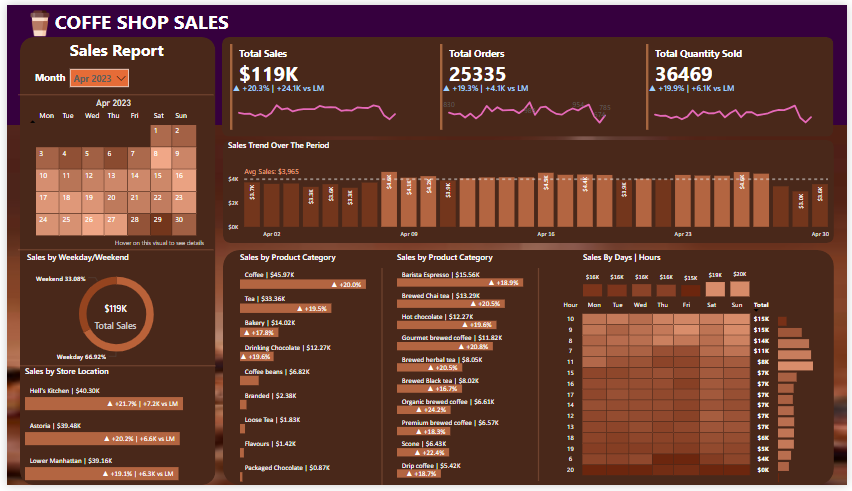

This screenshot's page, from the dashboard's own definition file:
{"tool":"powerbi","page":{"name":"Page 1","canvas":[1400,800],"ordinal":0},"visuals":[{"type":"shape","box":[0,0,1400,200],"z":0},{"type":"shape","box":[21,53.2,325.8,746.8],"z":1000},{"type":"shape","box":[358.1,53.2,1019.4,166.1],"z":2000},{"type":"shape","box":[360,225,1018.3,171.7],"z":3000},{"type":"shape","box":[360,408.3,1018.3,391.7],"z":4000},{"type":"textbox","box":[66.1,0,316.1,53.2],"z":5000},{"type":"cardVisual","fields":{"Data":["Transactions.Total Sales"]},"box":[366.1,59.7,302.3,153.5],"z":6000,"group":"g3"},{"type":"cardVisual","fields":{"Data":["Transactions.Total Orders"]},"box":[716.1,59.7,302.3,153.5],"z":6000,"group":"g1"},{"type":"cardVisual","fields":{"Data":["Transactions.Total Quantity Sold"]},"box":[1059.7,59.7,302.3,153.5],"z":6000,"group":"g2"},{"type":"slicer","fields":{"Values":["Date Table.Month Year"]},"box":[100,102,108,40],"z":6000},{"type":"group","id":"g1","title":"Group 2","box":[716.1,59.7,301.6,153.2],"z":7000},{"type":"group","id":"g2","title":"Group 2","box":[1059.7,59.7,301.6,153.2],"z":8000},{"type":"lineChart","fields":{"Y":["Transactions.Total Sales"],"Category":["Date Table.Date.Variation.Date Hierarchy.Year","Date Table.Date.Variation.Date Hierarchy.Quarter","Date Table.Date.Variation.Date Hierarchy.Month","Date Table.Date.Variation.Date Hierarchy.Day"]},"box":[371.7,129.8,290,80],"z":8000,"group":"g3"},{"type":"lineChart","fields":{"Category":["Date Table.Date.Variation.Date Hierarchy.Year","Date Table.Date.Variation.Date Hierarchy.Quarter","Date Table.Date.Variation.Date Hierarchy.Month","Date Table.Date.Variation.Date Hierarchy.Day"],"Y":["Transactions.Total Orders"]},"box":[721.7,129.8,290,80],"z":8000,"group":"g1"},{"type":"lineChart","fields":{"Category":["Date Table.Date.Variation.Date Hierarchy.Year","Date Table.Date.Variation.Date Hierarchy.Quarter","Date Table.Date.Variation.Date Hierarchy.Month","Date Table.Date.Variation.Date Hierarchy.Day"],"Y":["Transactions.Total Quantity Sold"]},"box":[1065.3,129.8,290,80],"z":8000,"group":"g2"},{"type":"group","id":"g3","title":"Group 2","box":[366.1,59.7,301.6,153.2],"z":9000},{"type":"pivotTable","fields":{"Rows":["Date Table.Week number"],"Columns":["Date Table.Day"],"Values":["Min(Date Table.Day number)"]},"box":[28.3,170,305,230],"z":10000},{"type":"card","fields":{"Values":["Min(Date Table.Month Year)"]},"box":[127.4,150,101.6,29],"z":11000},{"type":"card","fields":{"Values":["Transactions.Foot note"]},"box":[174.2,383.9,161.3,24.2],"z":12000},{"type":"shape","box":[17.7,395.2,325.8,25.8],"z":13000},{"type":"shape","box":[17.7,137.1,325.8,25.8],"z":14000},{"type":"donutChart","title":"Sales by Weekday/Weekend","fields":{"Category":["Date Table.Weekday/Weekend"],"Y":["Transactions.Total Sales"]},"box":[29,411.3,308.1,190.3],"z":15000},{"type":"card","fields":{"Values":["Transactions.Total Sales"]},"box":[127.4,487.1,108.1,64.5],"z":16000},{"type":"clusteredBarChart","title":"Sales by Store Location ","fields":{"Category":["Transactions.store_location"],"Y":["Transactions.Placeholder","Transactions.Total Sales"]},"box":[25.8,601.6,308.1,198.4],"z":17000},{"type":"shape","box":[21,588.7,325.8,25.8],"z":18000},{"type":"columnChart","title":"Sales Trend Over The Period","fields":{"Category":["Transactions.transaction_date"],"Y":["Transactions.Total Sales"]},"box":[363.3,225,1011.7,171.7],"z":19000},{"type":"clusteredBarChart","title":"Sales by Product Category","fields":{"Y":["Transactions.Placeholder","Transactions.Total Sales"],"Category":["Transactions.product_category"]},"box":[383.3,411.7,250,388.3],"z":20000},{"type":"shape","box":[616.7,438.3,16.7,361.7],"z":21000},{"type":"clusteredBarChart","title":"Sales by Product Category","fields":{"Y":["Transactions.Placeholder","Transactions.Total Sales"],"Category":["Transactions.product_type"]},"box":[645,411.7,250,381.7],"z":22000},{"type":"shape","box":[876.7,438.3,18.3,355],"z":23000},{"type":"pivotTable","fields":{"Rows":["Transactions.Hour"],"Columns":["Date Table.Day"],"Values":["Transactions.Total Sales"]},"box":[914.5,487.1,369.4,312.9],"z":24000},{"type":"barChart","fields":{"Category":["Transactions.Hour"],"Y":["Transactions.Total Sales"]},"box":[1280.6,506.5,85.5,293.5],"z":25000},{"type":"columnChart","title":"Sales By Days | Hours","fields":{"Y":["Transactions.Total Sales"],"Category":["Date Table.Day"]},"box":[955,411.7,288.3,80],"z":26000},{"type":"textbox","box":[28.3,105,86.7,36.7],"z":27000},{"type":"textbox","box":[25.8,51.5,315.6,49.4],"z":28000},{"type":"image","box":[28.3,0,53.3,61.7],"z":28001}]}

Visuals, with their boxes in screenshot pixels (x1, y1, x2, y2), scaled from the page's 1400x800 canvas onto the 852x491 screenshot:
shape: region(0, 0, 851, 123)
shape: region(13, 33, 211, 490)
shape: region(218, 33, 838, 135)
shape: region(219, 138, 839, 243)
shape: region(219, 251, 839, 490)
textbox: region(40, 0, 233, 33)
cardVisual - Transactions.Total Sales: region(223, 37, 407, 131)
cardVisual - Transactions.Total Orders: region(436, 37, 620, 131)
cardVisual - Transactions.Total Quantity Sold: region(645, 37, 829, 131)
slicer - Date Table.Month Year: region(61, 63, 127, 87)
"Group 2" group: region(436, 37, 619, 131)
"Group 2" group: region(645, 37, 828, 131)
lineChart - Transactions.Total Sales x Date Table.Date.Variation.Date Hierarchy.Year: region(226, 80, 403, 129)
lineChart - Date Table.Date.Variation.Date Hierarchy.Year x Date Table.Date.Variation.Date Hierarchy.Quarter: region(439, 80, 616, 129)
lineChart - Date Table.Date.Variation.Date Hierarchy.Year x Date Table.Date.Variation.Date Hierarchy.Quarter: region(648, 80, 825, 129)
"Group 2" group: region(223, 37, 406, 131)
pivotTable - Date Table.Week number x Date Table.Day: region(17, 104, 203, 246)
card - Min(Date Table.Month Year): region(78, 92, 139, 110)
card - Transactions.Foot note: region(106, 236, 204, 250)
shape: region(11, 243, 209, 258)
shape: region(11, 84, 209, 100)
"Sales by Weekday/Weekend" donutChart: region(18, 252, 205, 369)
card - Transactions.Total Sales: region(78, 299, 143, 339)
"Sales by Store Location " clusteredBarChart: region(16, 369, 203, 490)
shape: region(13, 361, 211, 377)
"Sales Trend Over The Period" columnChart: region(221, 138, 837, 243)
"Sales by Product Category" clusteredBarChart: region(233, 253, 385, 490)
shape: region(375, 269, 385, 490)
"Sales by Product Category" clusteredBarChart: region(393, 253, 545, 487)
shape: region(534, 269, 545, 487)
pivotTable - Transactions.Hour x Date Table.Day: region(557, 299, 781, 490)
barChart - Transactions.Hour x Transactions.Total Sales: region(779, 311, 831, 490)
"Sales By Days | Hours" columnChart: region(581, 253, 757, 302)
textbox: region(17, 64, 70, 87)
textbox: region(16, 32, 208, 62)
image: region(17, 0, 50, 38)
